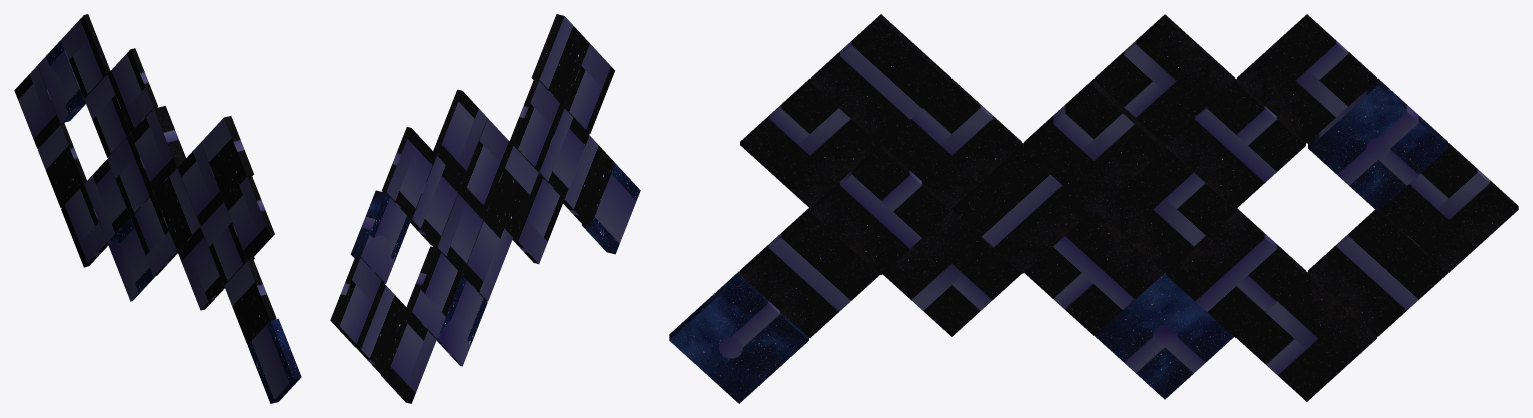
The picture shows the model from 3 angles, left to right: view 1: azimuth 30°, elevation 25°; view 2: azimuth 150°, elevation 25°; view 3: azimuth 270°, elevation 25°; orthographic projection. The views are drawn at different scales.
Visible parts, largest first — view 1: Cube.Tile.009, Cube.Spawner1, Cube.Tile.004, Cube.Tile, Cube.Tile.003, Cube.Tile.013, Cube.Tile.017, Cube.Tile.014, Cube.Spawner3, Cube.Tile.015, Cube.Tile.005, Cube.Tile.011 (+8 smaller); view 2: Cube.Spawner3, Cube.Tile.004, Cube.Tile.007, Cube.Tile.016, Cube.Tile.001, Cube.Tile.013, Cube.Tile.017, Cube.Spawner1, Cube.Tile, Cube.Tile.010, Cube.Tile.015, Cube.Tile.005 (+8 smaller); view 3: Cube.Tile.009, Cube.Spawner3, Cube.Tile.004, Cube.Spawner1, Cube.Tile.002, Cube.Tile.007, Cube.Tile.013, Cube.Tile.017, Cube.Tile.010, Cube.Tile, Cube.Tile.014, Cube.Tile.015 (+8 smaller).
Boxes of the visible parts, x1,y1,x2,y2 form: Cube.Tile.009: (131,106,185,191); Cube.Spawner1: (247,318,301,403); Cube.Tile.004: (201,116,253,200); Cube.Tile: (224,260,276,344); Cube.Tile.003: (224,175,274,259); Cube.Tile.013: (107,48,157,132); Cube.Tile.017: (61,14,110,98); Cube.Tile.014: (38,124,86,207); Cube.Spawner3: (37,40,85,123); Cube.Tile.015: (61,184,108,267); Cube.Tile.005: (177,227,224,310); Cube.Tile.011: (131,193,177,276); Cube.Spawner3: (351,190,410,283); Cube.Tile.004: (531,14,589,106); Cube.Tile.007: (406,246,461,338); Cube.Tile.016: (330,256,385,348); Cube.Tile.001: (509,79,563,171); Cube.Tile.013: (433,89,487,181); Cube.Tile.017: (382,127,436,218); Cube.Spawner1: (581,163,640,254); Cube.Tile: (563,136,614,226); Cube.Tile.010: (410,155,461,246); Cube.Tile.015: (381,313,436,403); Cube.Tile.005: (512,173,563,263); Cube.Tile.009: (1024,79,1163,213); Cube.Spawner3: (1308,78,1447,211); Cube.Tile.004: (811,14,950,145); Cube.Spawner1: (669,271,808,403); Cube.Tile.002: (811,145,950,274); Cube.Tile.007: (1166,208,1305,337); Cube.Tile.013: (1095,14,1234,143); Cube.Tile.017: (1237,14,1376,143); Cube.Tile.010: (1166,79,1305,208); Cube.Tile: (740,208,879,337); Cube.Tile.014: (1308,209,1447,336); Cube.Tile.015: (1237,271,1376,401).
Size of the model in its own units: 29.6 by 607 by 1217.
